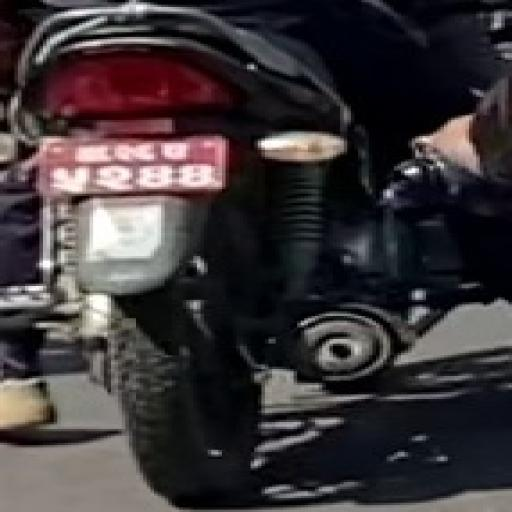license_plate: (36, 132, 228, 197)
